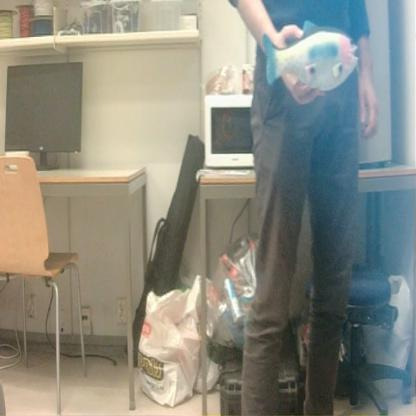rubberfish: (254, 16, 364, 99)
